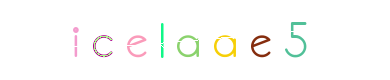5: (255, 0, 335, 80)
A: (154, 0, 234, 80), (186, 0, 266, 80)
C: (116, 0, 196, 80)
E: (122, 0, 202, 80), (219, 0, 299, 80)
I: (100, 0, 180, 80)
L: (143, 0, 223, 80)
